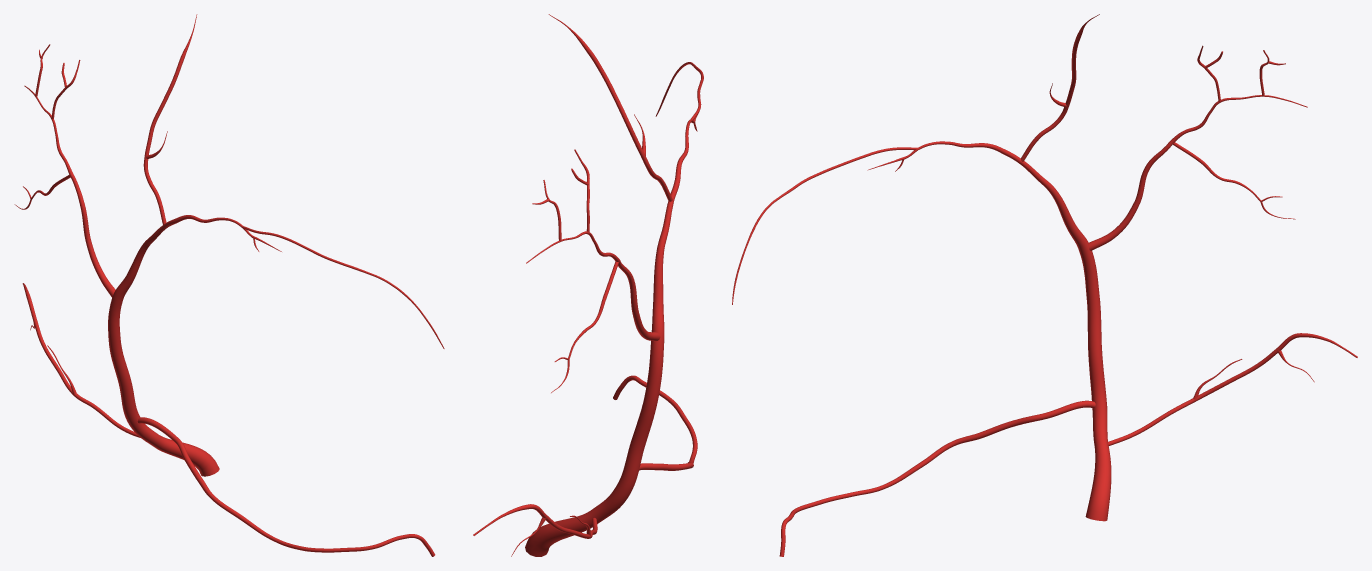
Rendered from circulatorio-superficial-temporal-artery-r.glb.
3 views of the same model, side by side, from view 1: azimuth 30°, elevation 25°; view 2: azimuth 150°, elevation 25°; view 3: azimuth 270°, elevation 25° (orthographic). The views are drawn at different scales.
Parts seen in each view (by area): view 1: Superficial temporal artery.r, Transverse facial artery.r, Frontal branch of superficial temporal artery.r; view 2: Superficial temporal artery.r, Transverse facial artery.r, Frontal branch of superficial temporal artery.r; view 3: Superficial temporal artery.r, Transverse facial artery.r, Frontal branch of superficial temporal artery.r.
Part boxes in pixels (x1,y1,x2,y2): Superficial temporal artery.r: (14,14,281,476); Transverse facial artery.r: (137,417,435,556); Frontal branch of superficial temporal artery.r: (242,226,444,348); Superficial temporal artery.r: (473,14,698,556); Transverse facial artery.r: (613,375,697,470); Frontal branch of superficial temporal artery.r: (655,62,703,120); Superficial temporal artery.r: (867,14,1357,521); Transverse facial artery.r: (779,400,1095,556); Frontal branch of superficial temporal artery.r: (732,147,918,304).
Size of the model in its own units: 0.0535 by 0.1256 by 0.1421.
